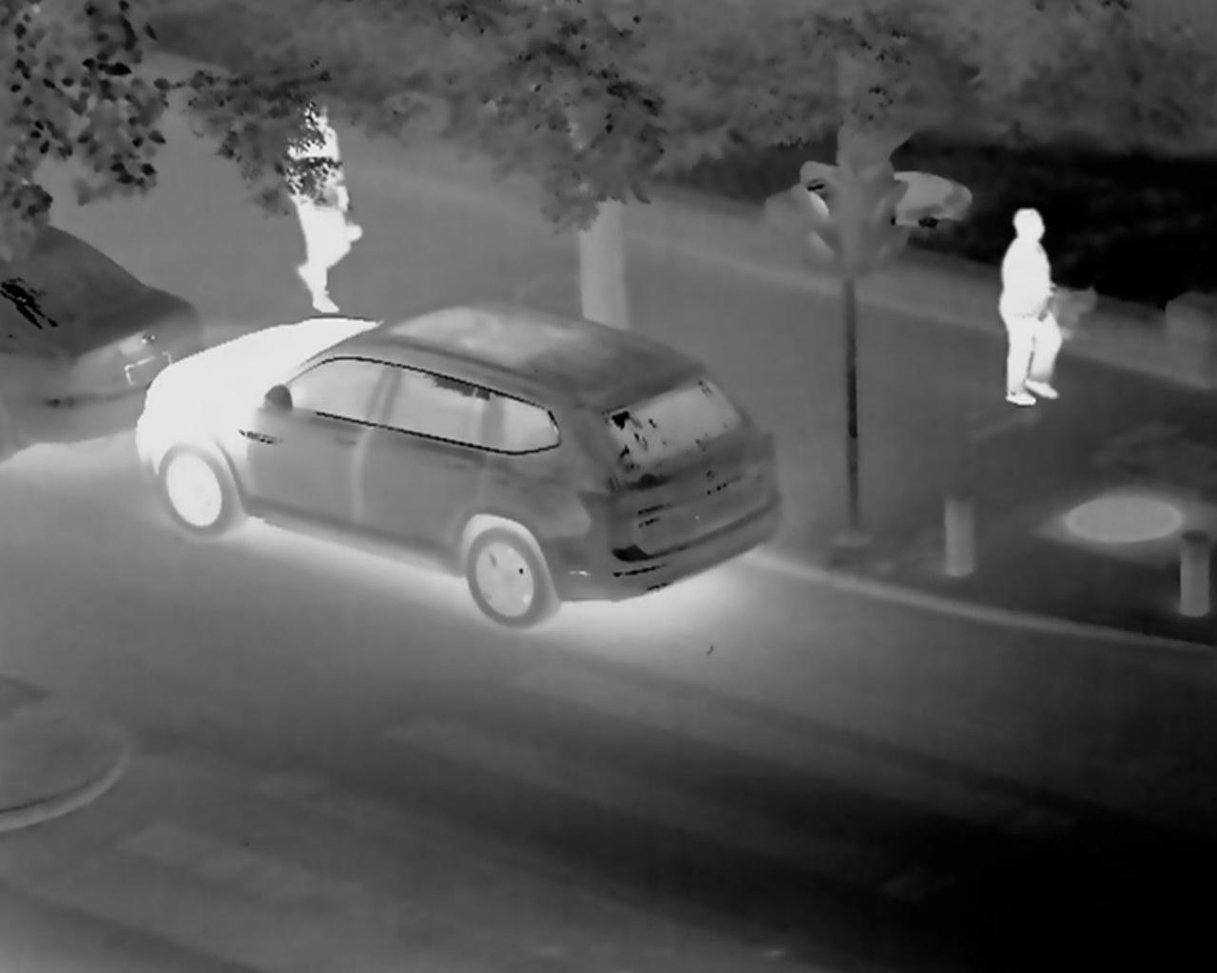person: (280, 94, 384, 317), (977, 200, 1063, 441)
